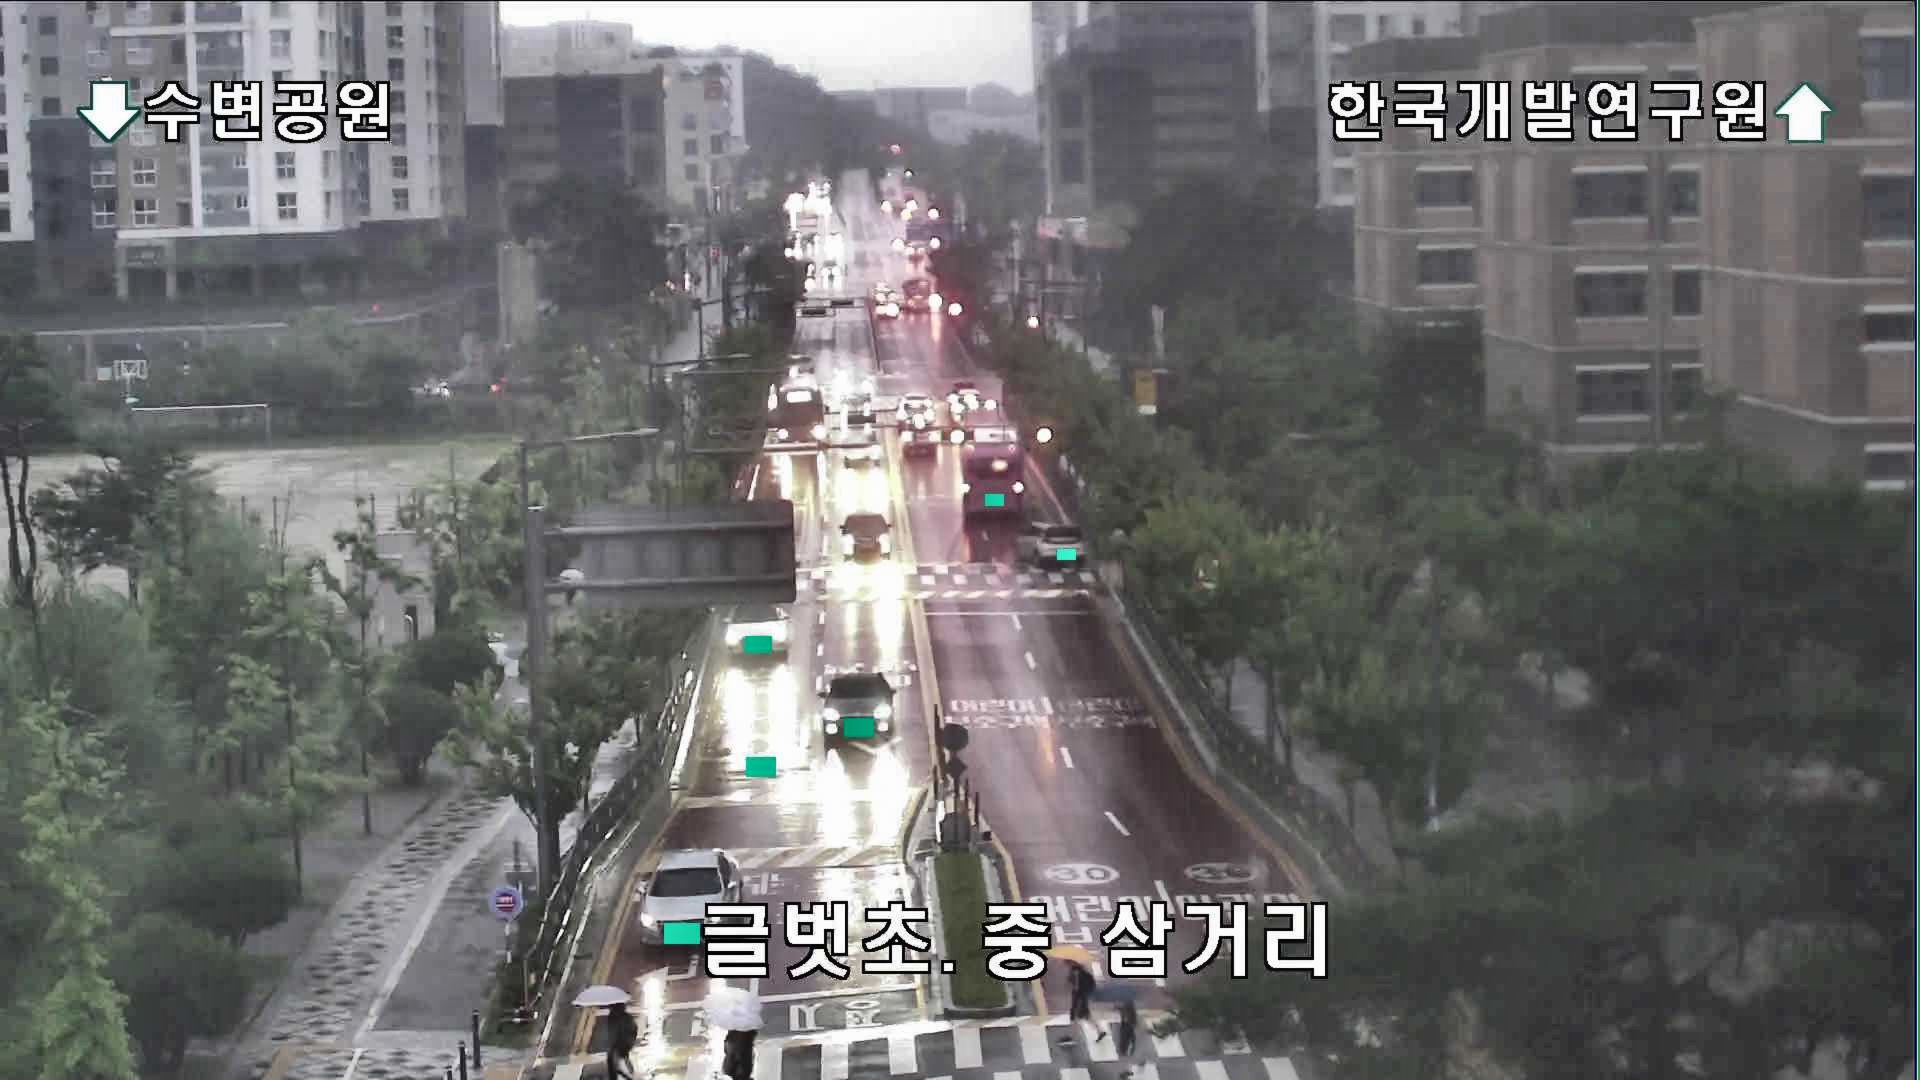um_crosswalk: (1040, 942, 1106, 1051), (574, 989, 637, 1080), (702, 989, 764, 1080), (1096, 984, 1151, 1080)
